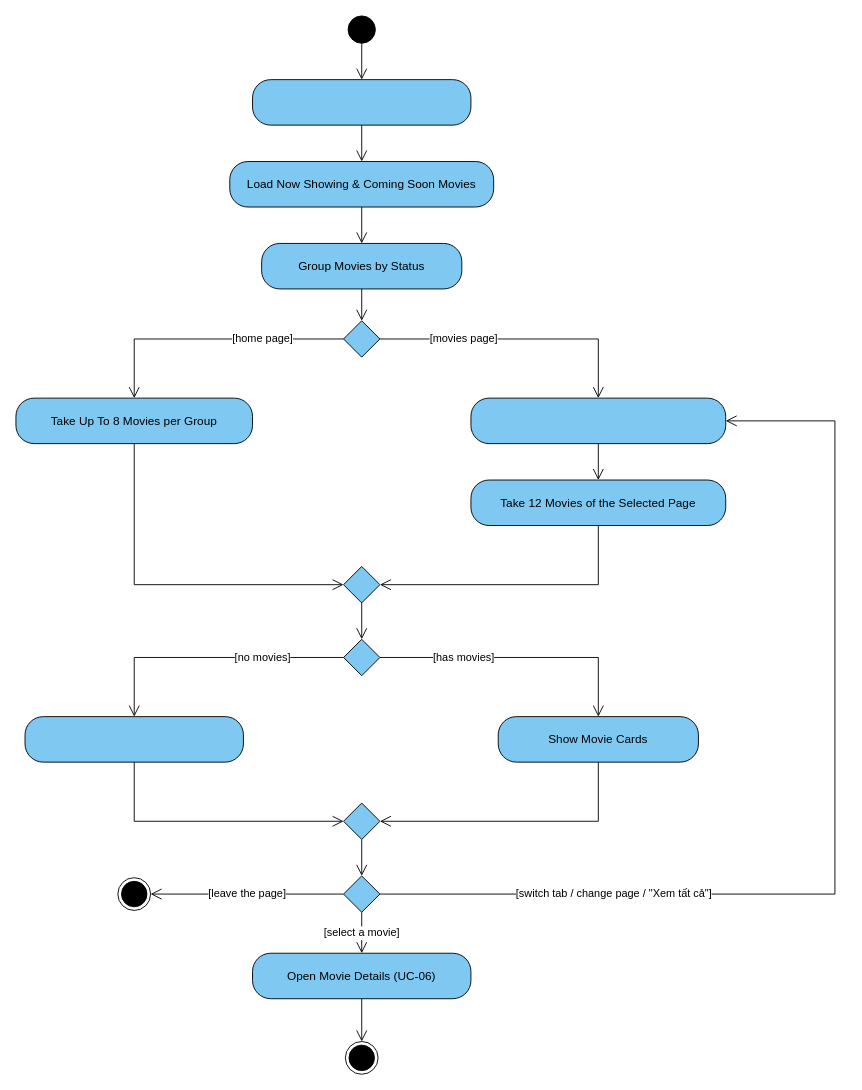
This 862x1090 diagram has some shape labels left out. Each missing label, with the centre of its shape:
Choose Tab (Now Showing by Default): the point at 598,420
Open Home Page or Movies Page: the point at 361,102
Show "No Movies" Message: the point at 133,739
